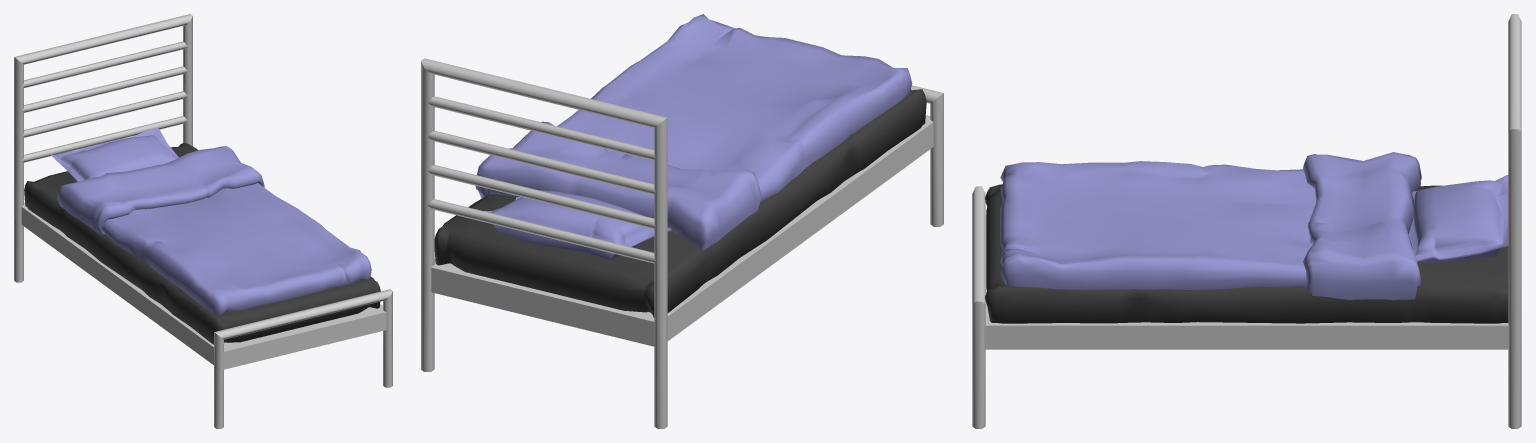
File: IKEABD03.FBX
The picture shows the model from 3 angles, left to right: view 1: azimuth 30°, elevation 25°; view 2: azimuth 150°, elevation 25°; view 3: azimuth 270°, elevation 25°; orthographic projection. The views are drawn at different scales.
Parts seen in each view (by area): view 1: IKEABD03; view 2: IKEABD03; view 3: IKEABD03.
Boxes of the visible parts, <box> form: IKEABD03: <box>14,14,392,428</box>; IKEABD03: <box>421,14,943,428</box>; IKEABD03: <box>972,14,1521,428</box>.
Size of the model in its own units: 98.91 by 199 by 120.
